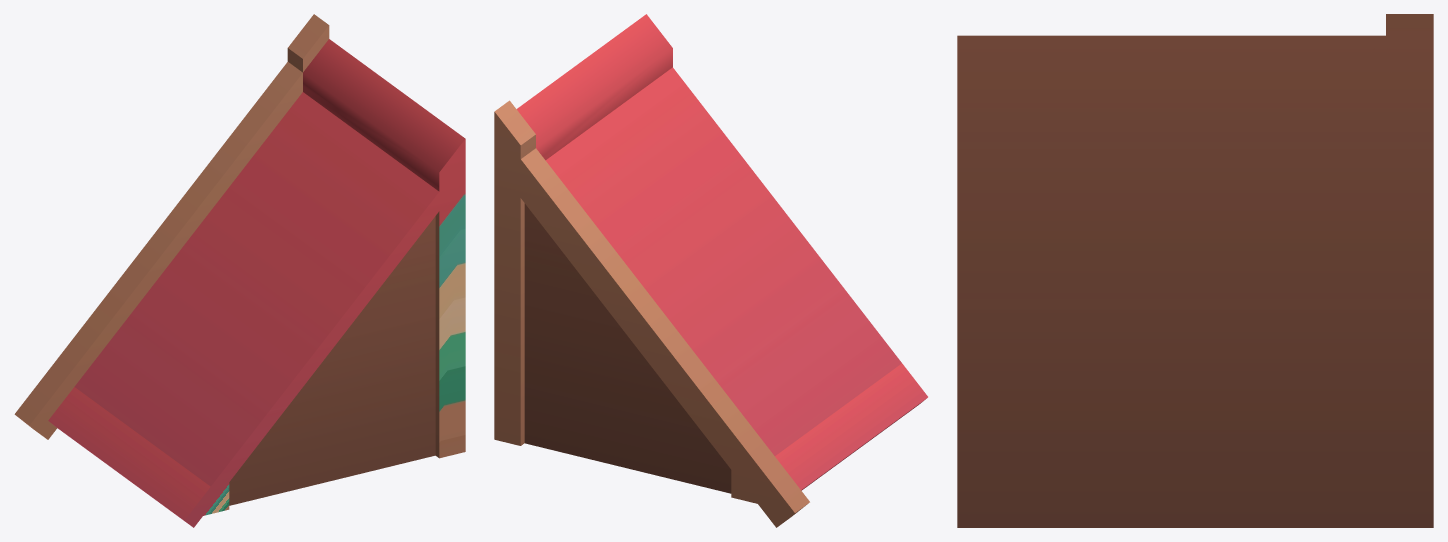
The model's file is roof-high-left.glb.
The picture shows the model from 3 angles, left to right: view 1: azimuth 30°, elevation 25°; view 2: azimuth 150°, elevation 25°; view 3: azimuth 270°, elevation 25°; orthographic projection. The views are drawn at different scales.
Visible parts, largest first — view 1: roof-high-left; view 2: roof-high-left; view 3: roof-high-left.
Part boxes in pixels (x1,y1,x2,y2): roof-high-left: [14, 14, 465, 527]; roof-high-left: [494, 14, 927, 527]; roof-high-left: [957, 14, 1433, 527].
Bounding box in the file's own units: 1.14 × 1.26 × 1.
Materials: 1 (1 with a texture image).
